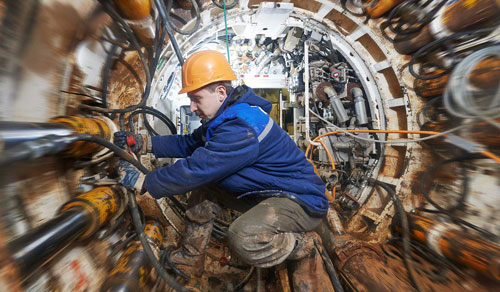epi: (119, 50, 329, 261)
